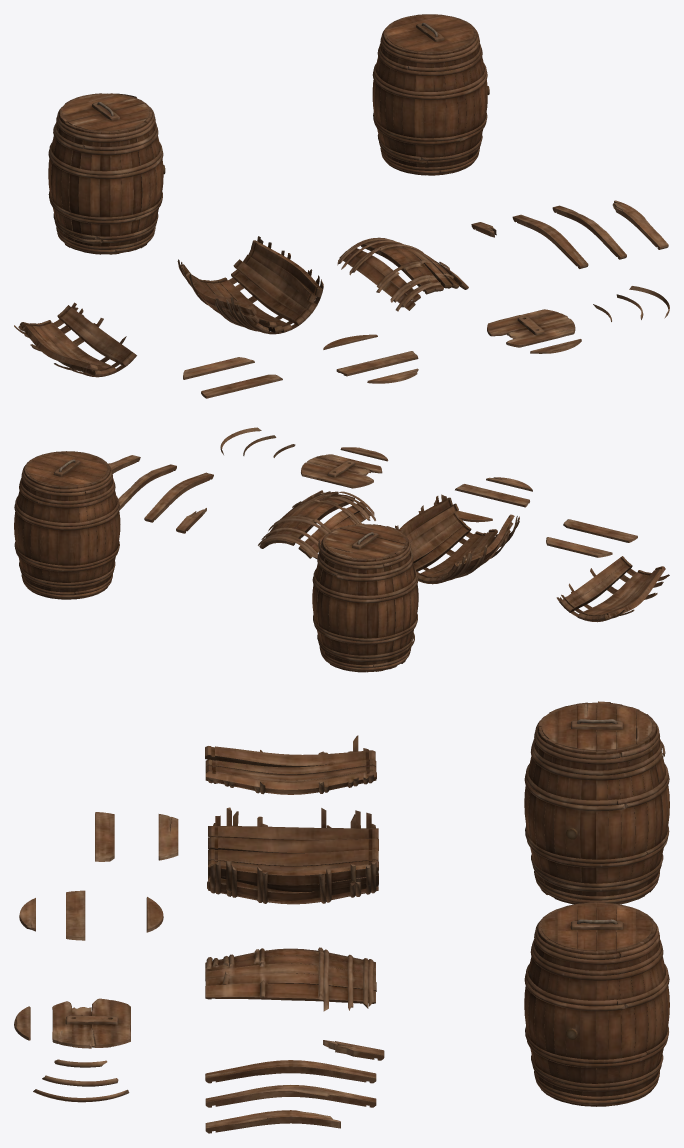
Rendered from barrel-stack.glb.
3 renders of one model, top to bottom at view 1: azimuth 30°, elevation 25°; view 2: azimuth 150°, elevation 25°; view 3: azimuth 270°, elevation 25°, orthographic. The views are drawn at different scales.
Visible parts, largest first — view 1: wooden_barrels_01_barrel02, wooden_barrels_01_barrel01, wooden_barrels_01_piece01, wooden_barrels_01_piece03, wooden_barrels_01_piece02, wooden_barrels_01_piece08, wooden_barrels_01_piece04, wooden_barrels_01_piece05, wooden_barrels_01_piece06, wooden_barrels_01_piece11, wooden_barrels_01_piece14, wooden_barrels_01_piece13; view 2: wooden_barrels_01_barrel02, wooden_barrels_01_barrel01, wooden_barrels_01_piece01, wooden_barrels_01_piece03, wooden_barrels_01_piece02, wooden_barrels_01_piece08, wooden_barrels_01_piece04, wooden_barrels_01_piece14, wooden_barrels_01_piece11, wooden_barrels_01_piece05, wooden_barrels_01_piece13; view 3: wooden_barrels_01_barrel01, wooden_barrels_01_barrel02, wooden_barrels_01_piece01, wooden_barrels_01_piece03, wooden_barrels_01_piece02, wooden_barrels_01_piece08, wooden_barrels_01_piece04, wooden_barrels_01_piece05, wooden_barrels_01_piece06, wooden_barrels_01_piece11, wooden_barrels_01_piece14, wooden_barrels_01_piece13 (+1 smaller).
Boxes of the visible parts, x1,y1,x2,y2 form: wooden_barrels_01_barrel02: (48,93,165,254); wooden_barrels_01_barrel01: (372,14,489,175); wooden_barrels_01_piece01: (177,236,323,334); wooden_barrels_01_piece03: (337,237,468,311); wooden_barrels_01_piece02: (14,302,136,377); wooden_barrels_01_piece08: (487,309,575,347); wooden_barrels_01_piece04: (512,214,588,268); wooden_barrels_01_piece05: (552,205,626,259); wooden_barrels_01_piece06: (612,200,668,249); wooden_barrels_01_piece11: (336,351,418,376); wooden_barrels_01_piece14: (201,374,282,398); wooden_barrels_01_piece13: (183,357,254,379); wooden_barrels_01_barrel02: (312,523,418,672); wooden_barrels_01_barrel01: (14,451,120,599); wooden_barrels_01_piece01: (395,494,519,584); wooden_barrels_01_piece03: (258,490,375,558); wooden_barrels_01_piece02: (556,556,669,622); wooden_barrels_01_piece08: (301,454,382,488); wooden_barrels_01_piece04: (144,472,213,522); wooden_barrels_01_piece14: (563,519,637,542); wooden_barrels_01_piece11: (455,484,529,507); wooden_barrels_01_piece05: (118,464,176,510); wooden_barrels_01_piece13: (546,537,612,557); wooden_barrels_01_barrel01: (524,902,669,1106); wooden_barrels_01_barrel02: (524,701,669,904); wooden_barrels_01_piece01: (207,807,378,904); wooden_barrels_01_piece03: (205,947,376,1011); wooden_barrels_01_piece02: (205,735,376,794); wooden_barrels_01_piece08: (52,998,130,1048); wooden_barrels_01_piece04: (205,1060,376,1083); wooden_barrels_01_piece05: (205,1085,376,1107); wooden_barrels_01_piece06: (205,1110,340,1133); wooden_barrels_01_piece11: (66,890,85,940); wooden_barrels_01_piece14: (95,812,114,861); wooden_barrels_01_piece13: (158,814,178,860).
Size of the model in its own units: 4.44 by 0.9567 by 3.34.
3 materials, 3 textured.
